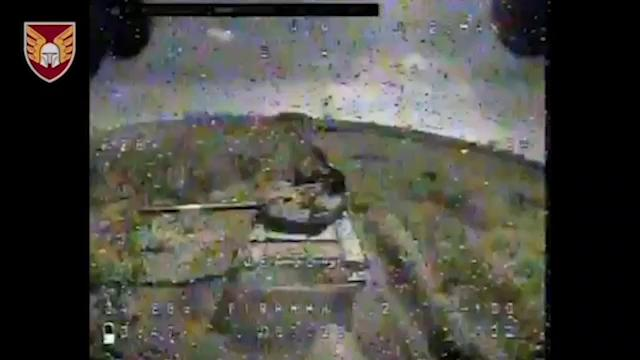tank: (136, 146, 371, 316)
